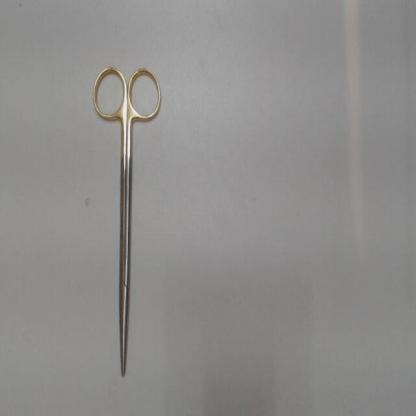7 Metzenbaum Scissors: (91, 64, 163, 375)
